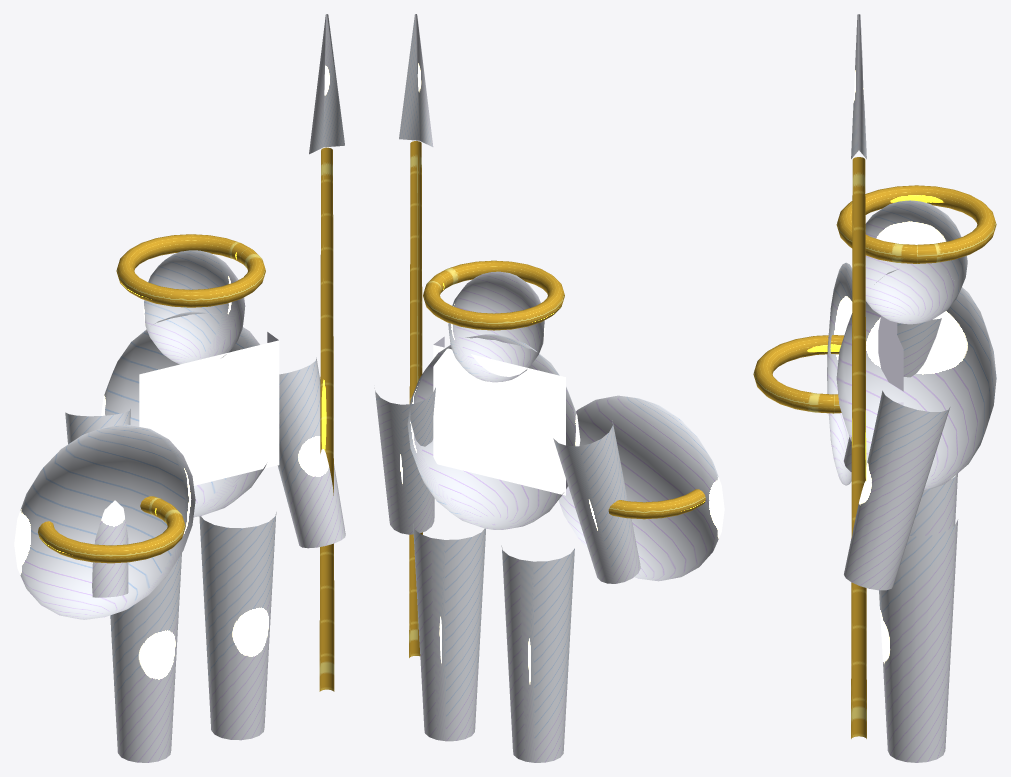
File: dharma_sentinel.glb
3 renders of one model, left to right at view 1: azimuth 30°, elevation 25°; view 2: azimuth 150°, elevation 25°; view 3: azimuth 270°, elevation 25°, orthographic. The views are drawn at different scales.
Visible parts, largest first — view 1: Node_DharmaSentinel; view 2: Node_DharmaSentinel; view 3: Node_DharmaSentinel.
Part boxes in pixels (x1,y1,x2,y2): Node_DharmaSentinel: (14,14,345,762); Node_DharmaSentinel: (374,14,724,762); Node_DharmaSentinel: (753,14,996,762).
Bounding box in the file's own units: 1.31 × 2.65 × 0.76.
Materials: 2 (2 with a texture image).
